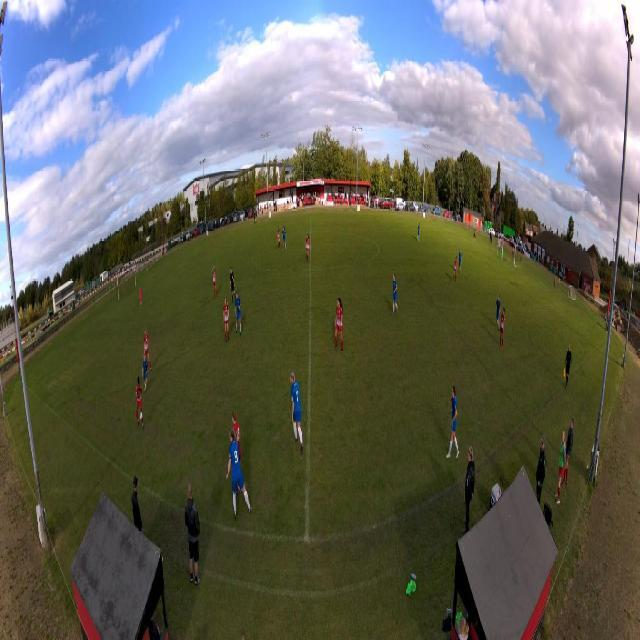ball: (139, 410, 143, 421)
player: (226, 427, 253, 521), (288, 371, 304, 462), (445, 384, 460, 460), (231, 410, 242, 467), (334, 297, 344, 355), (135, 376, 144, 431), (143, 328, 152, 373), (223, 296, 230, 344), (235, 291, 242, 337), (392, 272, 399, 317), (499, 306, 506, 351), (229, 266, 236, 305), (211, 264, 218, 300), (142, 353, 148, 395), (495, 293, 501, 331), (305, 233, 311, 264), (453, 255, 459, 285), (281, 225, 287, 252), (458, 247, 462, 276), (277, 225, 281, 249), (139, 285, 143, 307), (417, 222, 421, 242), (501, 245, 504, 264)
